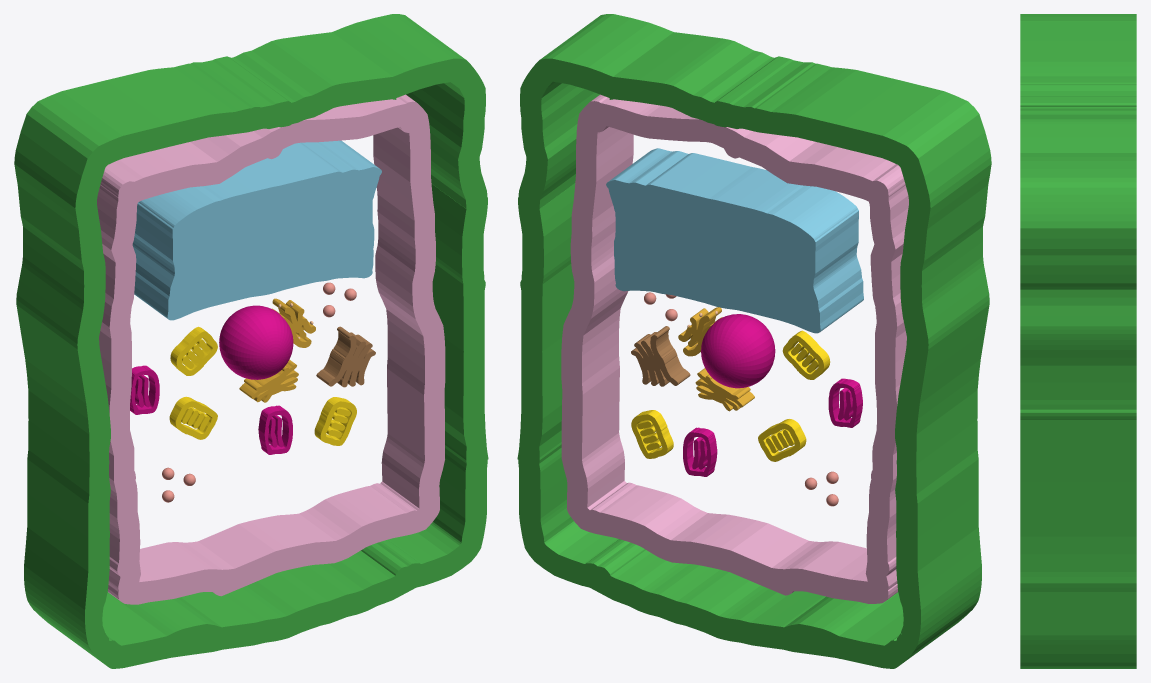
Rendered from cell.obj.
3 renders of one model, left to right at view 1: azimuth 30°, elevation 25°; view 2: azimuth 150°, elevation 25°; view 3: azimuth 270°, elevation 25°, orthographic. The views are drawn at different scales.
Parts seen in each view (by area): view 1: group_0_4634441, group_0_15708628, group_0_8768998, group_0_16768282, group_0_-1026094196, group_0_14093196, group_0_14789940, group_0_11107152, group_0_15308428; view 2: group_0_4634441, group_0_15708628, group_0_8768998, group_0_14093196, group_0_16768282, group_0_14789940, group_0_11107152, group_0_15308428; view 3: group_0_4634441.
Boxes of the visible parts, <box> form: group_0_4634441: <box>14,14,488,668</box>; group_0_15708628: <box>97,94,445,604</box>; group_0_8768998: <box>132,140,381,320</box>; group_0_16768282: <box>169,326,356,445</box>; group_0_-1026094196: <box>224,308,293,379</box>; group_0_14093196: <box>130,305,292,454</box>; group_0_14789940: <box>239,298,315,402</box>; group_0_11107152: <box>316,326,375,387</box>; group_0_15308428: <box>162,282,356,502</box>; group_0_4634441: <box>517,14,991,668</box>; group_0_15708628: <box>561,94,908,603</box>; group_0_8768998: <box>606,148,863,333</box>; group_0_14093196: <box>683,316,862,476</box>; group_0_16768282: <box>631,330,830,461</box>; group_0_14789940: <box>678,307,754,411</box>; group_0_11107152: <box>631,326,690,386</box>; group_0_15308428: <box>644,292,838,506</box>; group_0_4634441: <box>1020,14,1136,668</box>.
Size of the model in its own units: 38.51 by 48.35 by 9.86.
